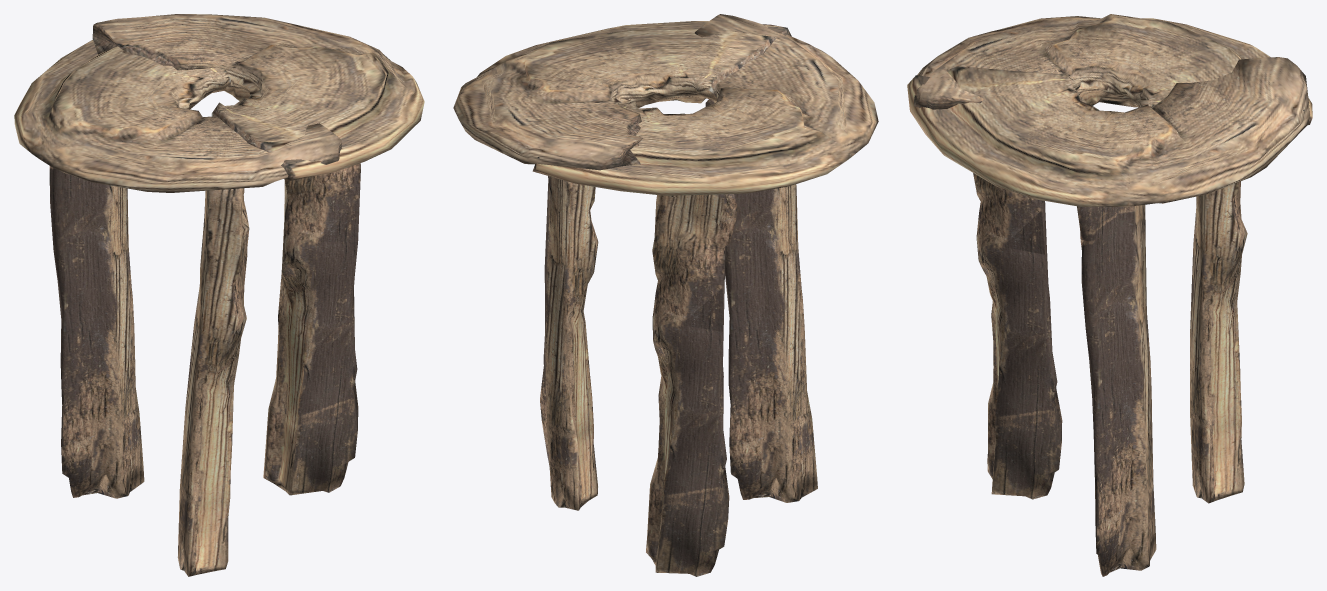
Rendered from Chair3.fbx.
3 renders of one model, left to right at view 1: azimuth 30°, elevation 25°; view 2: azimuth 150°, elevation 25°; view 3: azimuth 270°, elevation 25°, orthographic. The views are drawn at different scales.
Parts seen in each view (by area): view 1: chair3_lod0; view 2: chair3_lod0; view 3: chair3_lod0.
Part boxes in pixels (left/top/right/bottom): chair3_lod0: left=14, top=14, right=424, bottom=576; chair3_lod0: left=453, top=14, right=878, bottom=576; chair3_lod0: left=907, top=14, right=1312, bottom=576.
Size of what is drawn, in the model's own units: 57.82 by 65.61 by 53.98.
